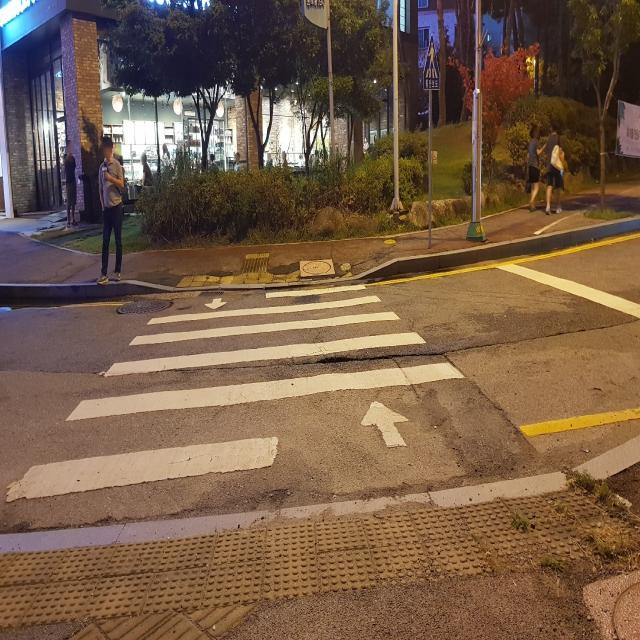횡단보도: (6, 286, 464, 502)
